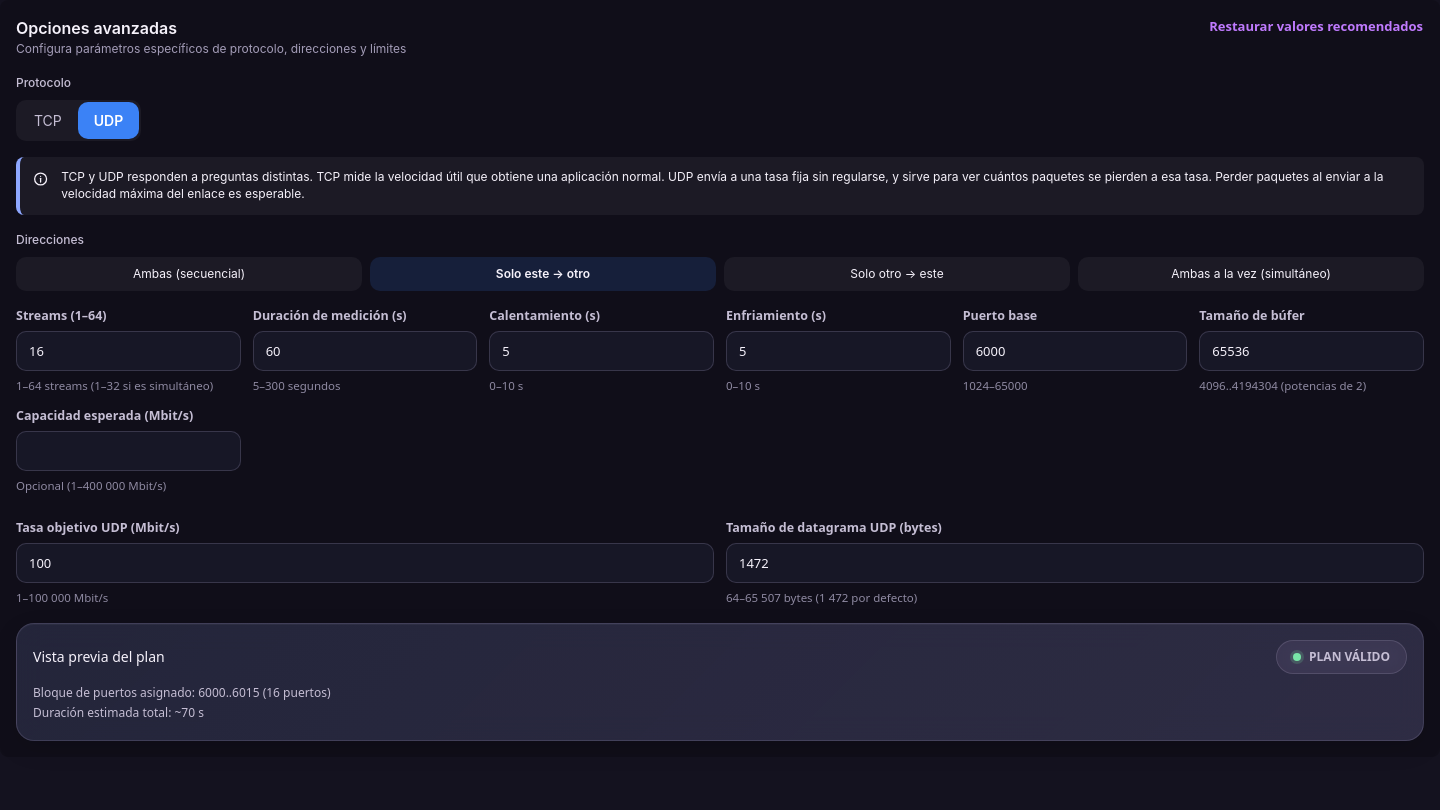
Test: T092 - AdvancedPlan UI Component Tests (US5) › restaura los valores recomendados al pulsar el botón correspondiente
Click the button "Restaurar valores recomendados" at (1316, 27), box [1208, 16, 1424, 38]
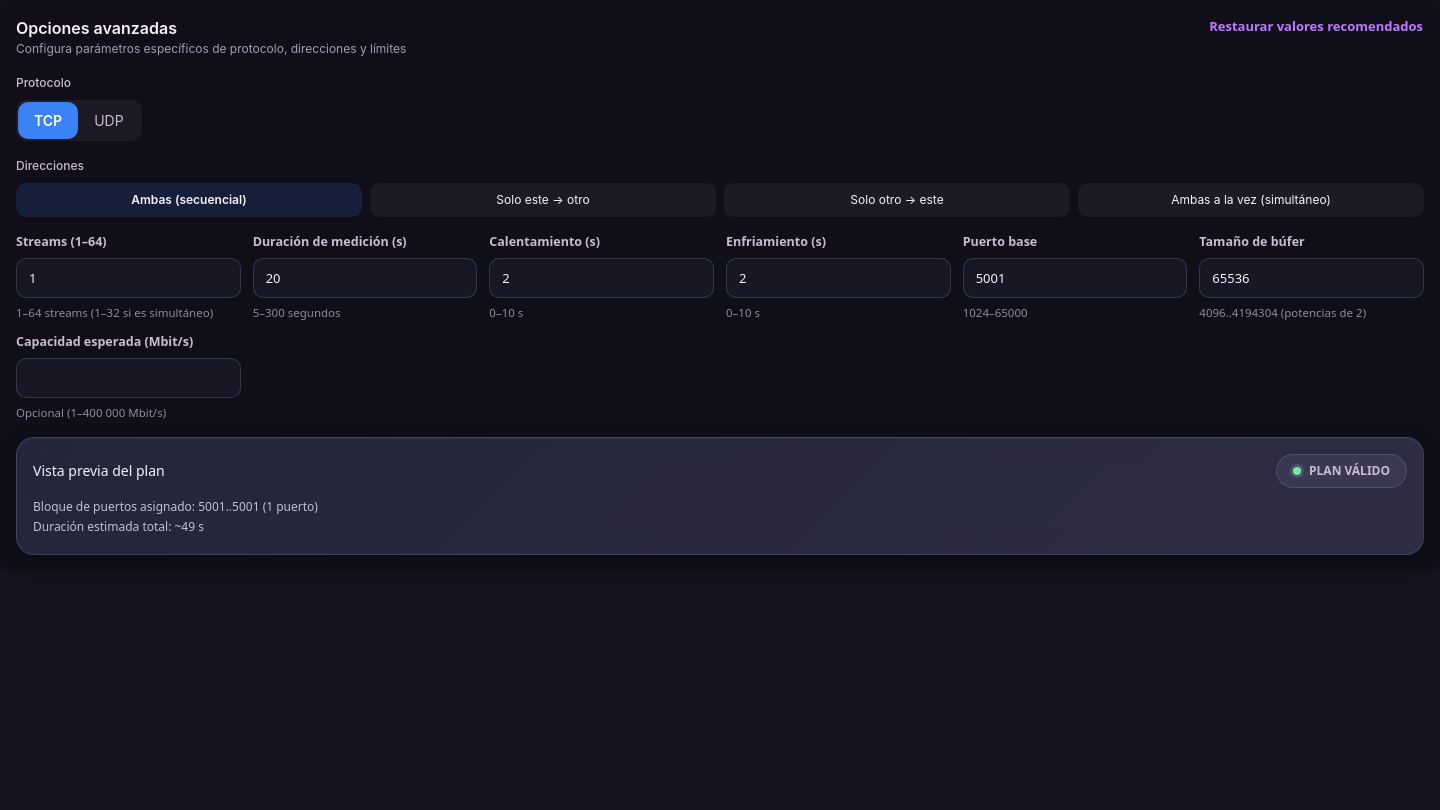
Check: the text "Bloque de puertos asignado: 5001..5001 (1 puerto)" is shown, box [33, 498, 318, 515]
